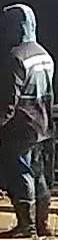vest: (2, 40, 56, 150)
